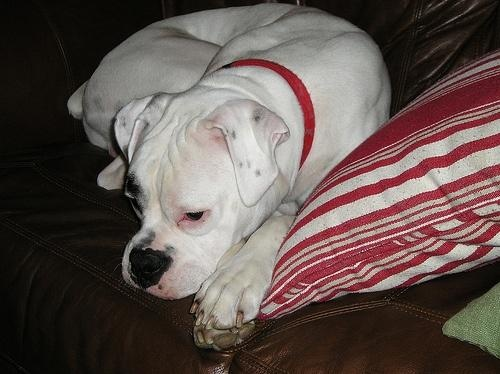dog: (69, 4, 392, 345)
